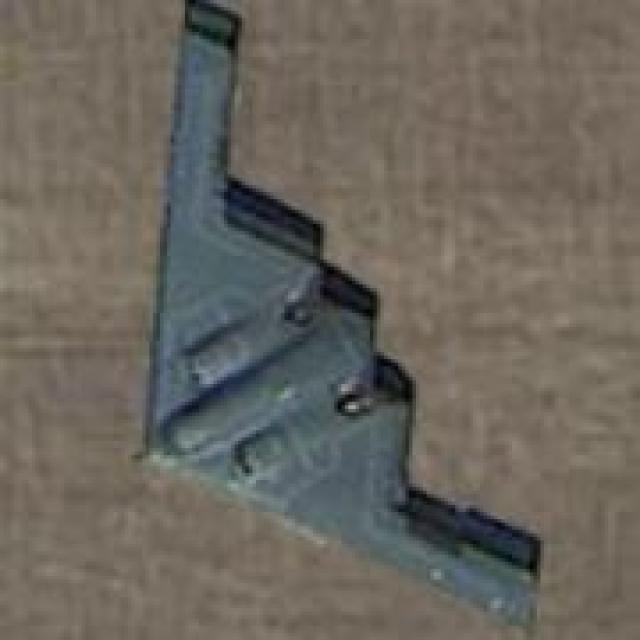B-2_TopDown: (128, 0, 544, 633)
